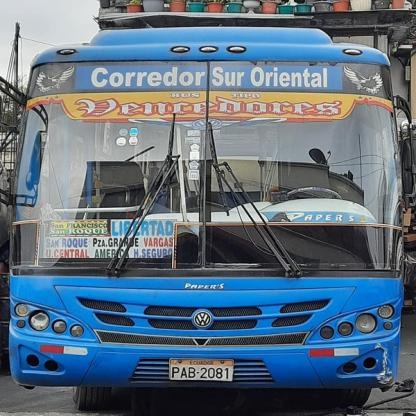Placa: (166, 356, 236, 386)
